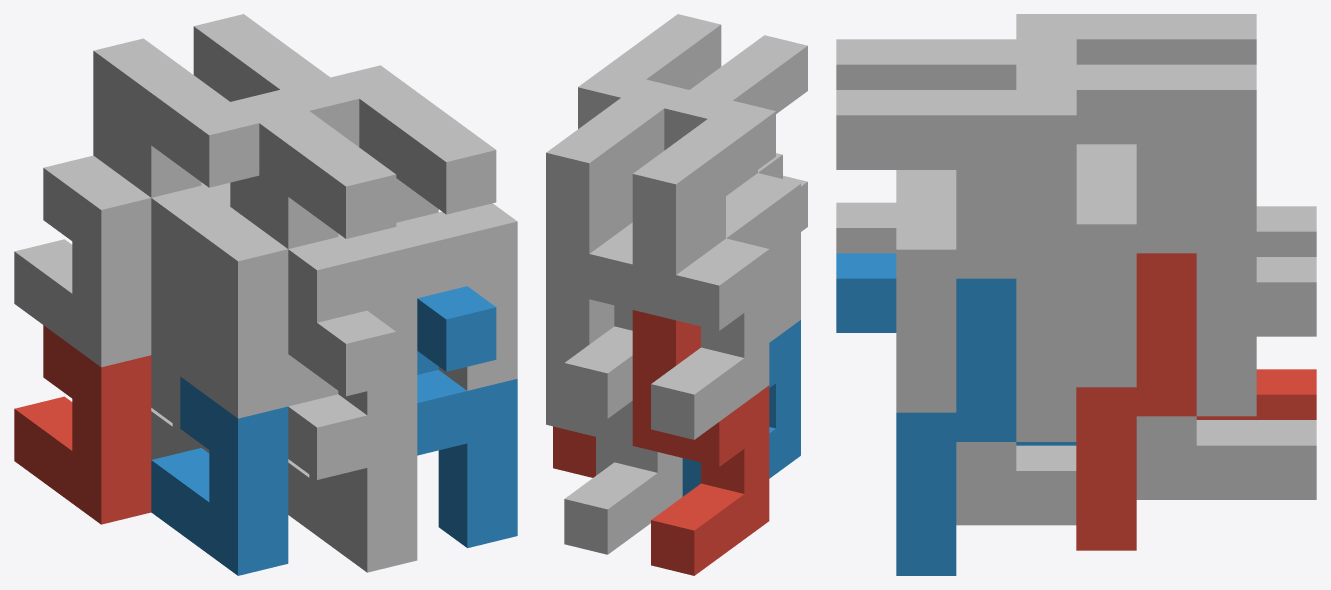
File: tiling.obj
The picture shows the model from 3 angles, left to right: view 1: azimuth 30°, elevation 25°; view 2: azimuth 150°, elevation 25°; view 3: azimuth 270°, elevation 25°; orthographic projection. The views are drawn at different scales.
Visible parts, largest first — view 1: copy_2_domain_4, copy_1_domain_3, copy_2_domain_2, copy_2_domain_8, copy_1_domain_4, copy_2_domain_6, copy_1_domain_2, copy_1_domain_1, copy_2_domain_3, copy_2_domain_7, copy_2_domain_1, copy_1_domain_6 (+3 smaller); view 2: copy_1_domain_3, copy_1_domain_1, copy_1_domain_7, copy_1_domain_5, copy_1_domain_4, copy_2_domain_3, copy_2_domain_7, copy_2_domain_4, copy_2_domain_8, copy_1_domain_2, copy_1_domain_8, copy_2_domain_5 (+2 smaller); view 3: copy_2_domain_8, copy_2_domain_7, copy_2_domain_6, copy_1_domain_5, copy_1_domain_6, copy_2_domain_5, copy_1_domain_7, copy_1_domain_8, copy_2_domain_4, copy_2_domain_3, copy_1_domain_3, copy_1_domain_1 (+2 smaller).
Part boxes in pixels (box(x1,y1,x2,y2)): copy_2_domain_4: box(259, 111, 417, 415); copy_1_domain_3: box(14, 38, 171, 367); copy_2_domain_2: box(288, 302, 417, 572); copy_2_domain_8: box(359, 86, 517, 390); copy_1_domain_4: box(151, 89, 308, 418); copy_2_domain_6: box(417, 286, 517, 548); copy_1_domain_2: box(151, 376, 288, 575); copy_1_domain_1: box(14, 325, 151, 524); copy_2_domain_3: box(122, 59, 259, 270); copy_2_domain_7: box(222, 35, 359, 146); copy_2_domain_1: box(151, 250, 209, 452); copy_1_domain_6: box(288, 459, 338, 550); copy_1_domain_3: box(632, 155, 769, 439); copy_1_domain_1: box(632, 310, 769, 575); copy_1_domain_7: box(546, 134, 632, 418); copy_1_domain_5: box(546, 288, 682, 554); copy_1_domain_4: box(664, 90, 800, 342); copy_2_domain_3: box(658, 100, 775, 256); copy_2_domain_7: box(571, 79, 688, 235); copy_2_domain_4: box(690, 35, 807, 190); copy_2_domain_8: box(603, 14, 721, 89); copy_1_domain_2: box(682, 320, 800, 496); copy_1_domain_8: box(578, 69, 645, 128); copy_2_domain_5: box(553, 426, 595, 477); copy_2_domain_8: box(836, 90, 1016, 412); copy_2_domain_7: box(1016, 64, 1196, 387); copy_2_domain_6: box(836, 253, 1016, 575); copy_1_domain_5: box(1136, 253, 1316, 499); copy_1_domain_6: box(956, 278, 1076, 525); copy_2_domain_5: box(1076, 253, 1196, 550); copy_1_domain_7: box(1196, 64, 1316, 336); copy_1_domain_8: box(1016, 90, 1076, 278); copy_2_domain_4: box(836, 39, 1016, 198); copy_2_domain_3: box(1016, 14, 1196, 173); copy_1_domain_3: box(1196, 14, 1316, 256); copy_1_domain_1: box(1196, 369, 1316, 419).
Size of the model in its own units: 6 by 8 by 8.
